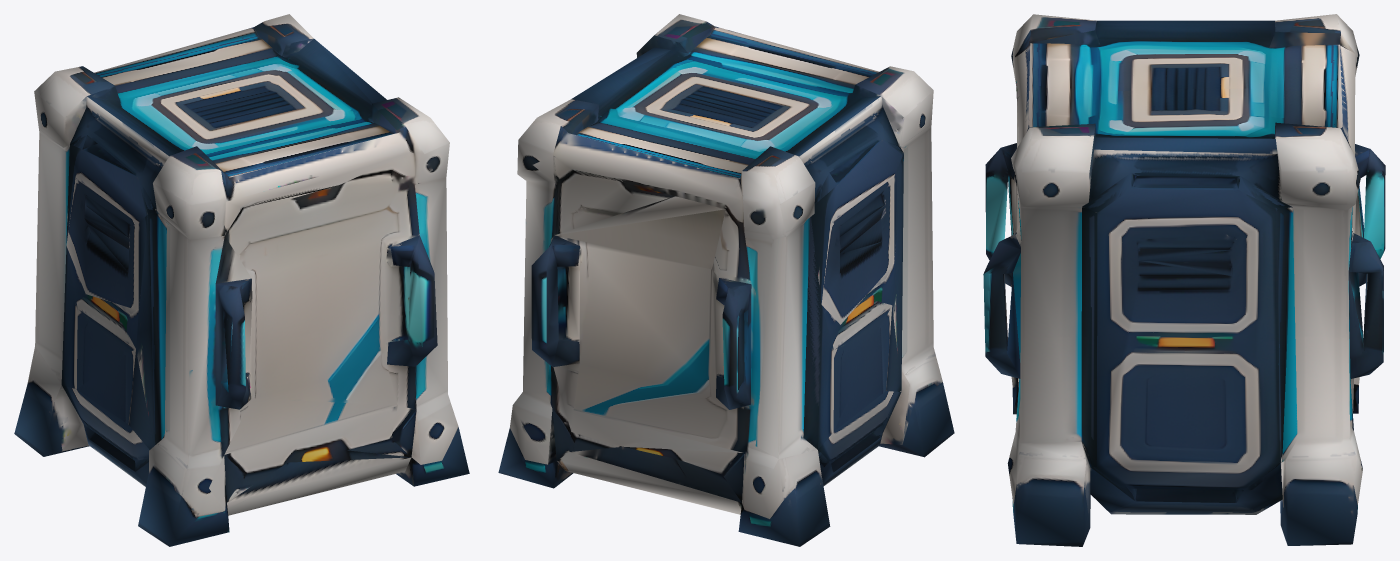
The model's file is cryo-relay-cabinet_LOD2.glb.
3 views of the same model, side by side, from view 1: azimuth 30°, elevation 25°; view 2: azimuth 150°, elevation 25°; view 3: azimuth 270°, elevation 25° (orthographic). The views are drawn at different scales.
Visible parts, largest first — view 1: cryo-relay-cabinet_LOD2; view 2: cryo-relay-cabinet_LOD2; view 3: cryo-relay-cabinet_LOD2.
Part boxes in pixels (left/top/right/bottom): cryo-relay-cabinet_LOD2: left=14, top=14, right=469, bottom=546; cryo-relay-cabinet_LOD2: left=498, top=14, right=954, bottom=546; cryo-relay-cabinet_LOD2: left=983, top=14, right=1385, bottom=546.
Size of the model in its own units: 1.39 by 1.58 by 1.48.
1 material, 1 textured.
